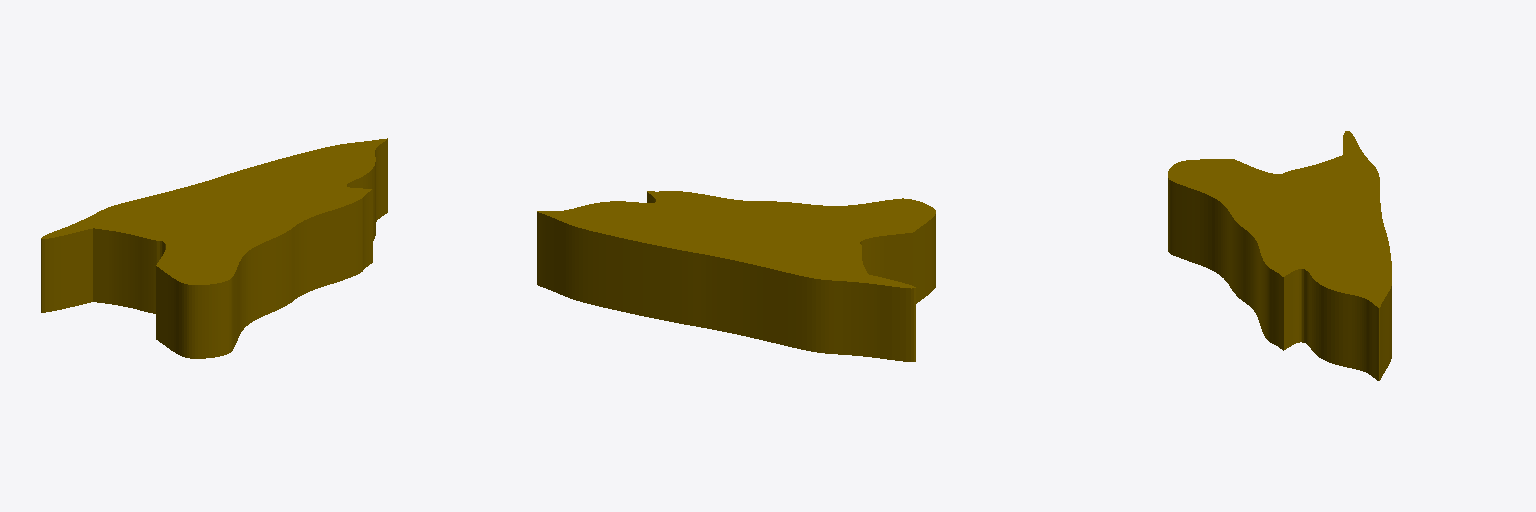
3 renders of one model, left to right at view 1: azimuth 30°, elevation 25°; view 2: azimuth 150°, elevation 25°; view 3: azimuth 270°, elevation 25°, orthographic.
Parts seen in each view (by area): view 1: Curve.014_path4200; view 2: Curve.014_path4200; view 3: Curve.014_path4200.
Boxes of the visible parts, box(x1,y1,x2,y2) form: Curve.014_path4200: box(41, 138, 387, 358); Curve.014_path4200: box(537, 191, 935, 361); Curve.014_path4200: box(1168, 131, 1391, 380).
Bounding box in the file's own units: 0.5162 × 0.1 × 0.277.